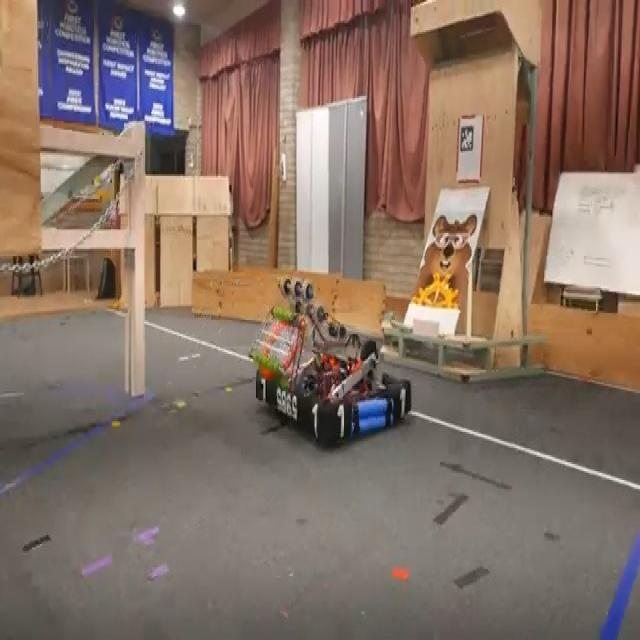note: (538, 3, 639, 175)
